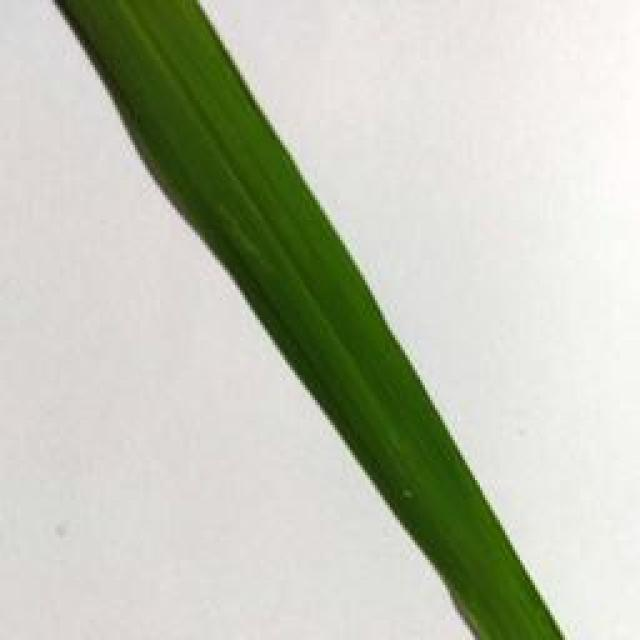Healthy: (53, 0, 566, 640)
